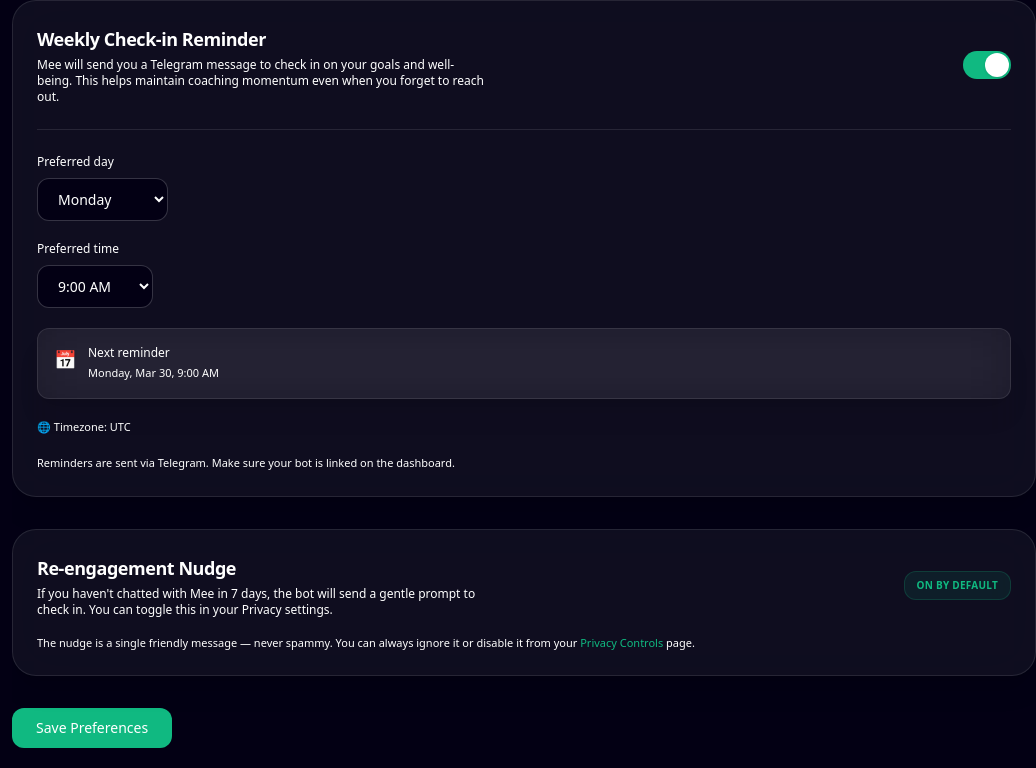
it: NotificationPreferences › shows saved confirmation after successful save
Click the button "Save Preferences" at (92, 728), box [12,708,172,748]
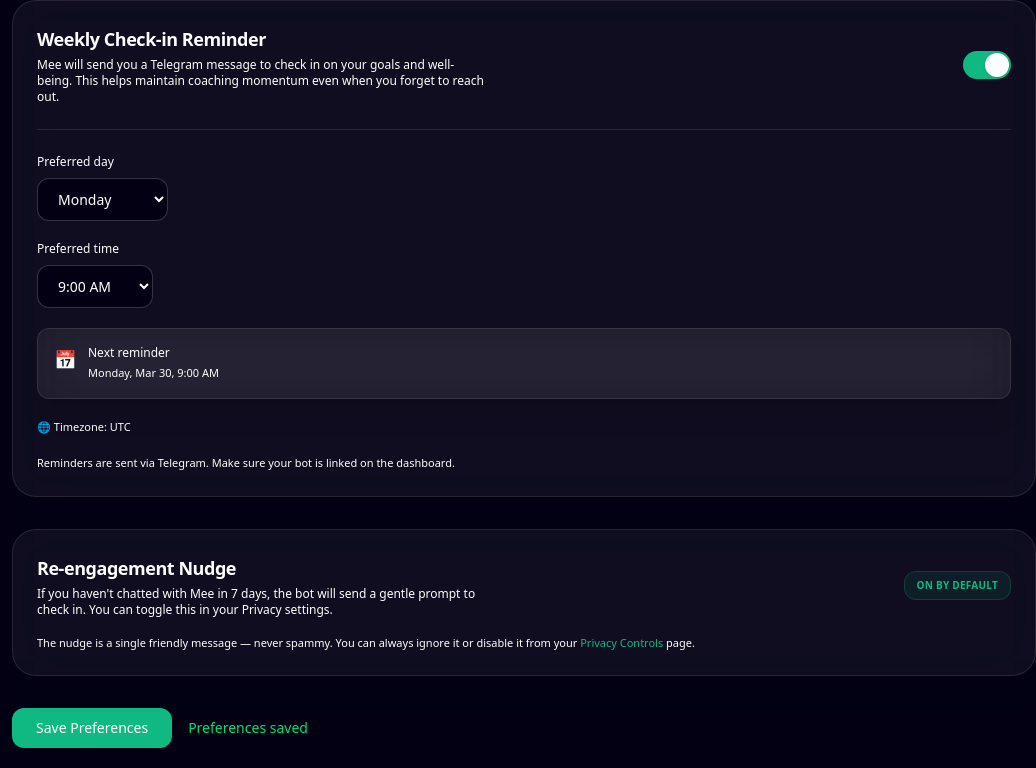
expect the text "Preferences saved" is shown: met, box [188,718,308,738]
